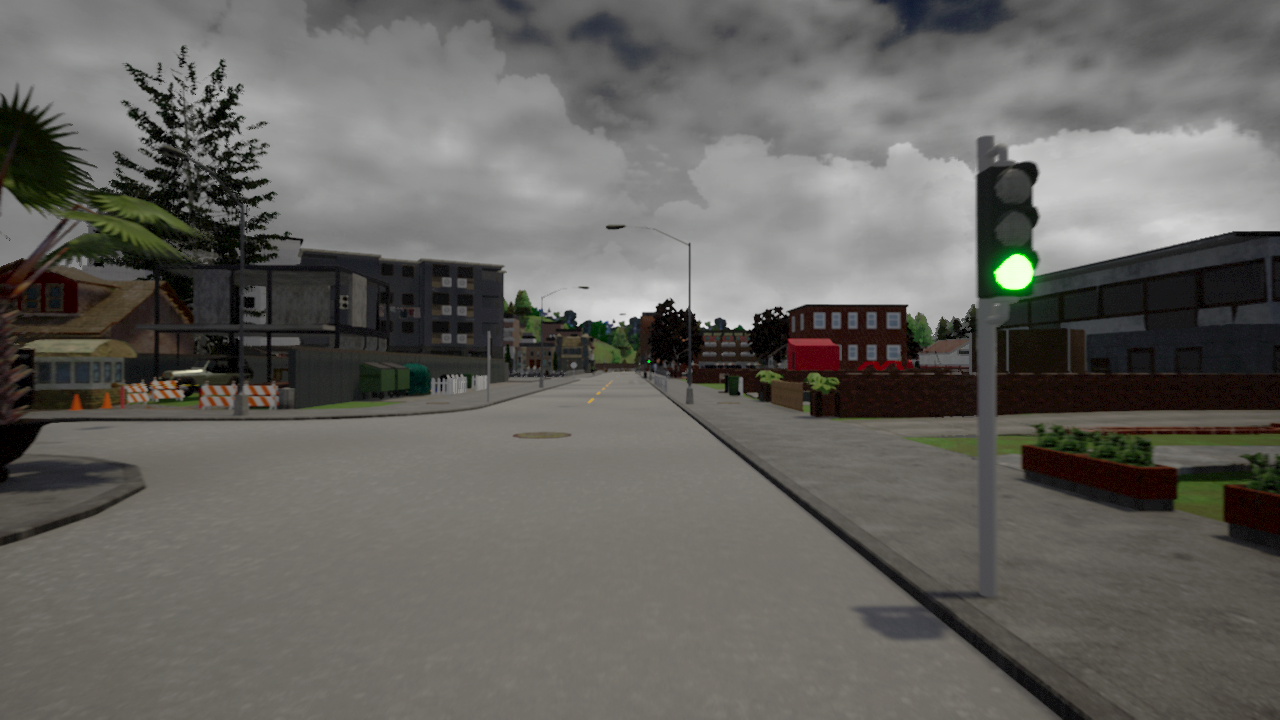green: (977, 161, 1037, 297)
